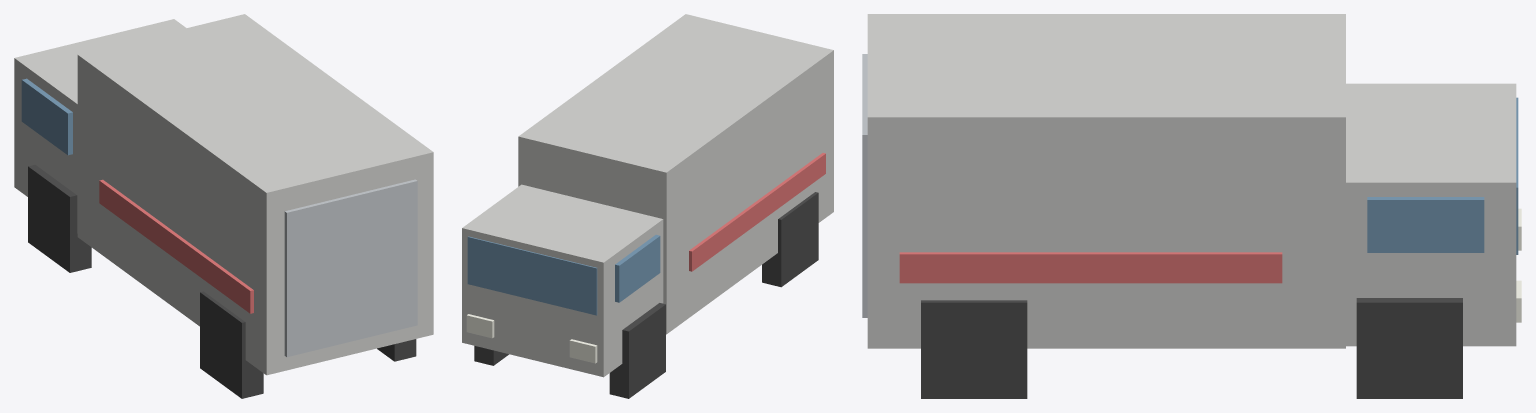
File: armored_truck.glb
3 renders of one model, left to right at view 1: azimuth 30°, elevation 25°; view 2: azimuth 150°, elevation 25°; view 3: azimuth 270°, elevation 25°, orthographic. The views are drawn at different scales.
Parts seen in each view (by area): view 1: armored_truck; view 2: armored_truck; view 3: armored_truck.
Boxes of the visible parts, x1,y1,x2,y2 form: armored_truck: (14, 14, 433, 398); armored_truck: (462, 14, 833, 398); armored_truck: (862, 14, 1521, 398).
Size of the model in its own units: 2.4 by 2.9 by 6.2.
